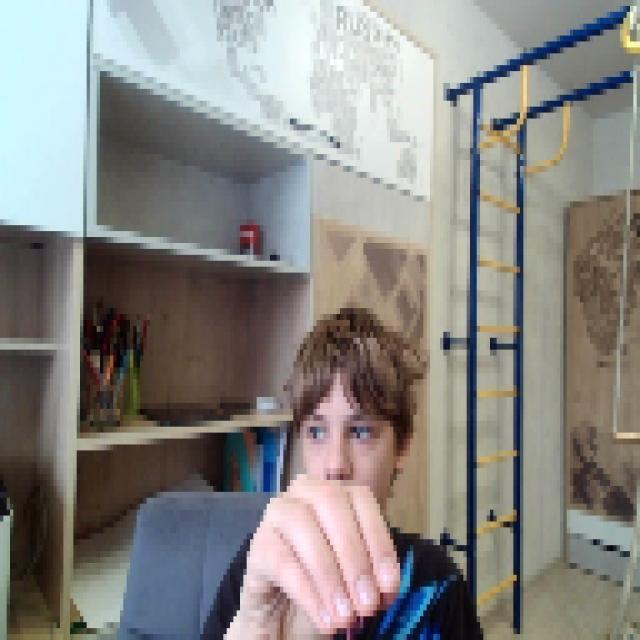left_click: (237, 474, 400, 628)
